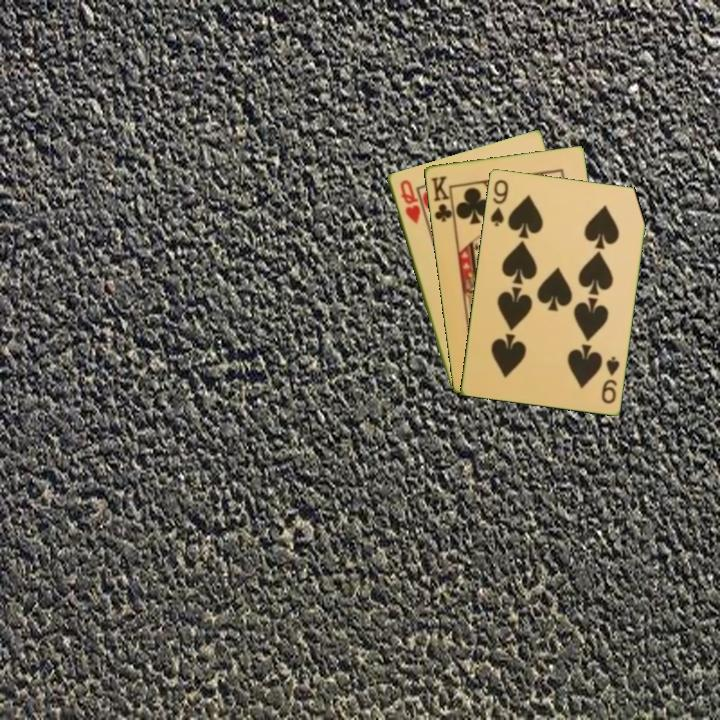9s: (598, 352, 622, 406), (487, 176, 511, 229)
Kc: (427, 172, 457, 225)
Qh: (396, 176, 423, 227)
